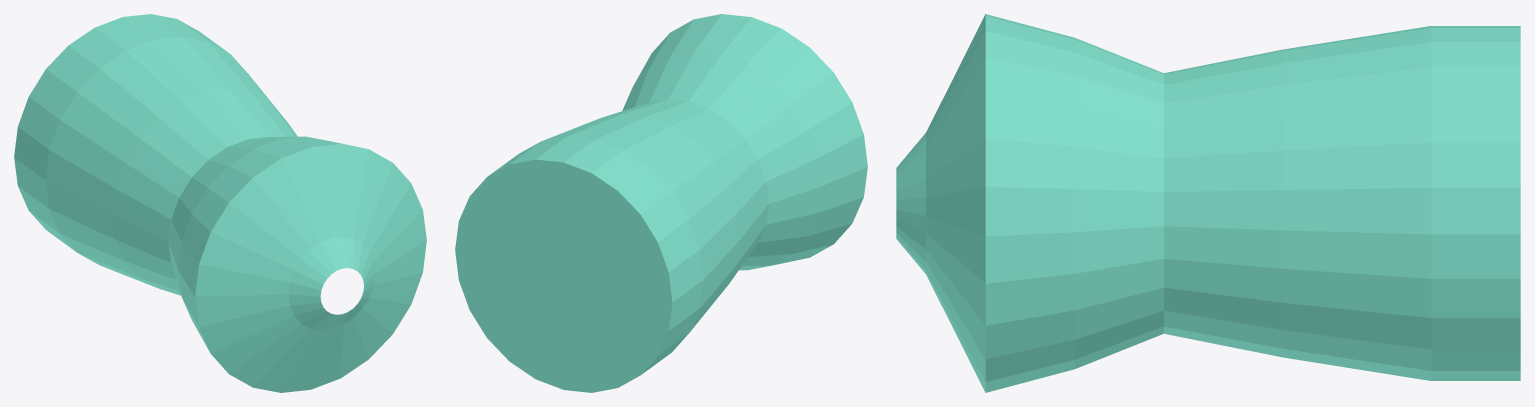
Rendered from architectural-blazer.glb.
The picture shows the model from 3 angles, left to right: view 1: azimuth 30°, elevation 25°; view 2: azimuth 150°, elevation 25°; view 3: azimuth 270°, elevation 25°; orthographic projection. The views are drawn at different scales.
Bounding box in the file's own units: 0.416 × 0.416 × 0.6825.
